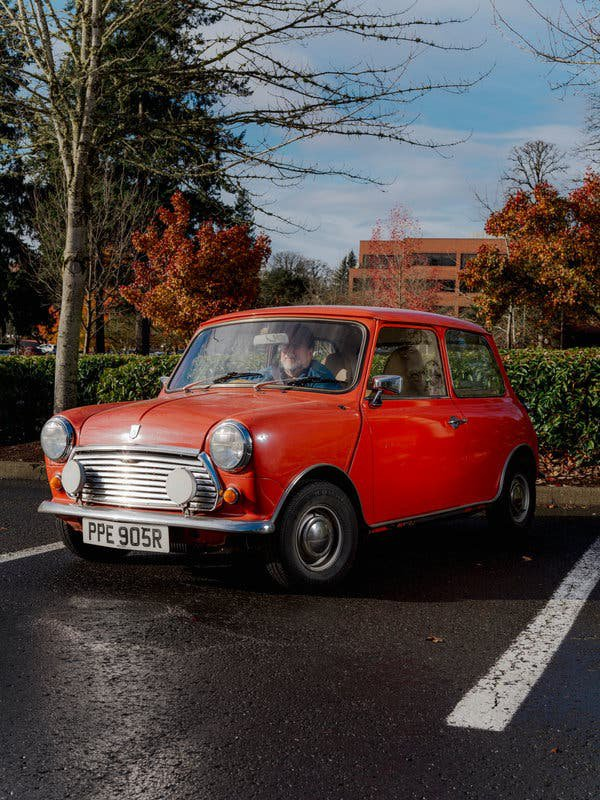car: (36, 297, 545, 576)
